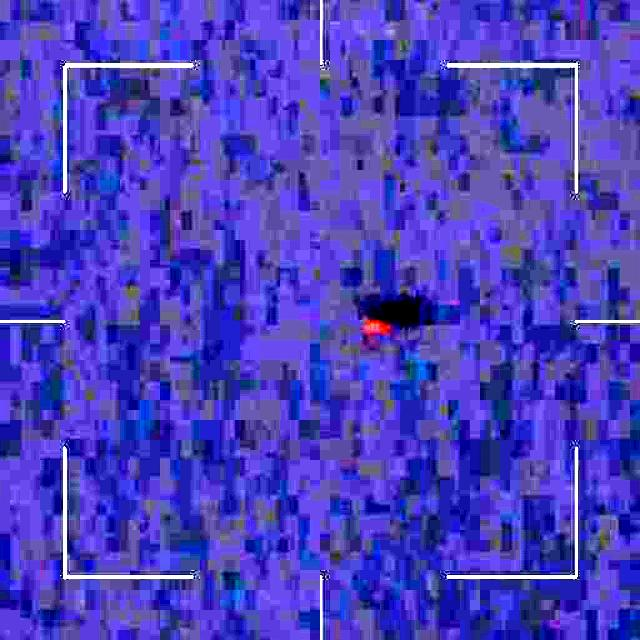bird: (365, 300, 394, 350)
